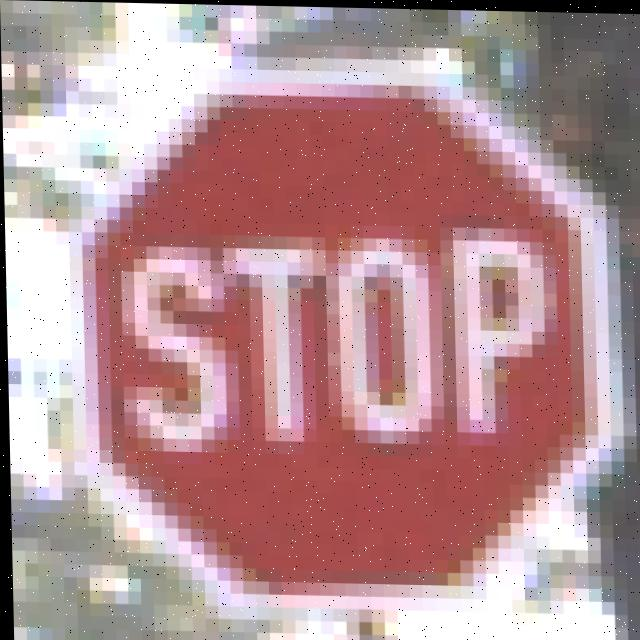stop: (82, 82, 607, 610)
